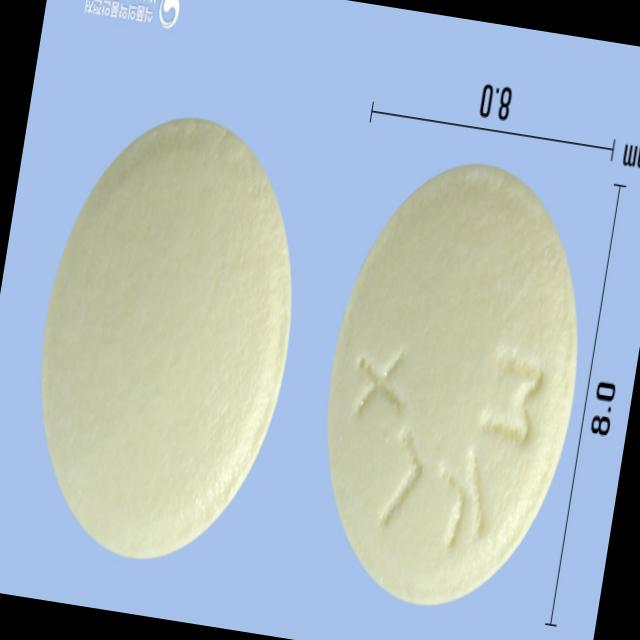Lerocin: (294, 148, 608, 629)
